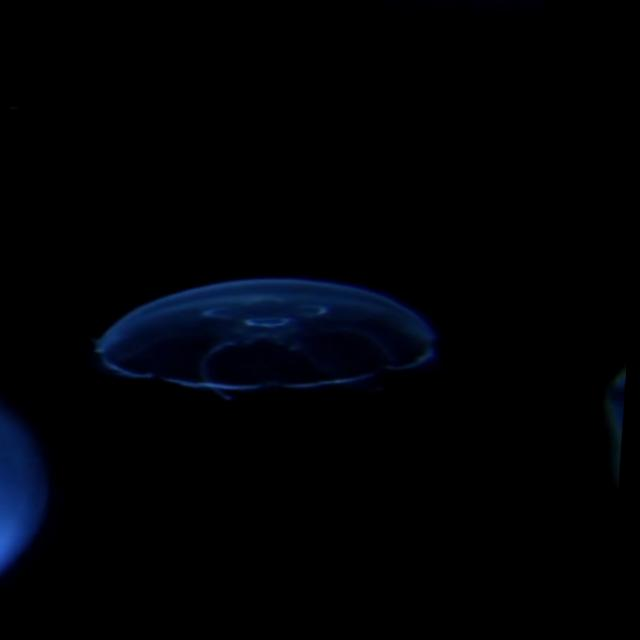Moon-jellyfish: (97, 274, 452, 401), (0, 386, 58, 585)
